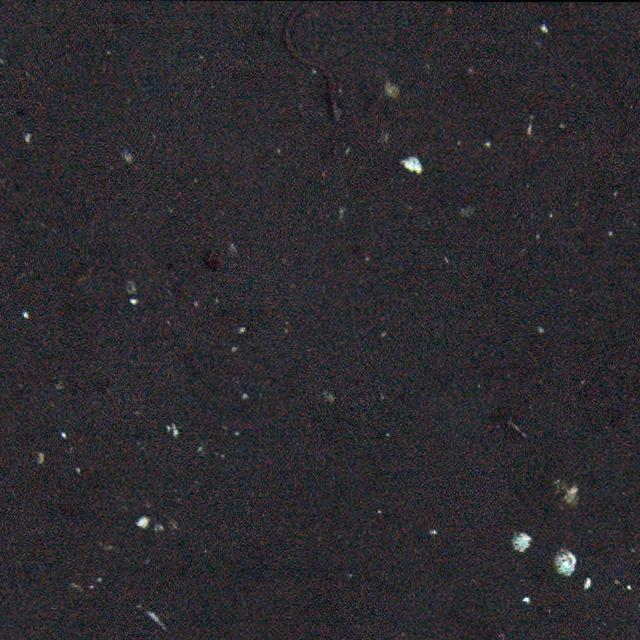eel: (282, 0, 350, 125)
